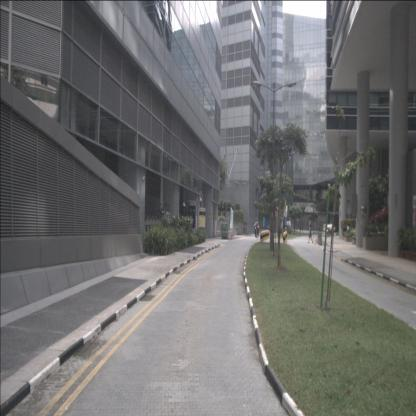human-pedestrian-adult: (308, 224, 313, 244), (256, 221, 260, 238), (254, 219, 257, 238)
vehicle-car: (323, 224, 335, 233)
vehicle-motorcycle: (324, 226, 328, 238)
vehicle-truck: (263, 205, 292, 235)
